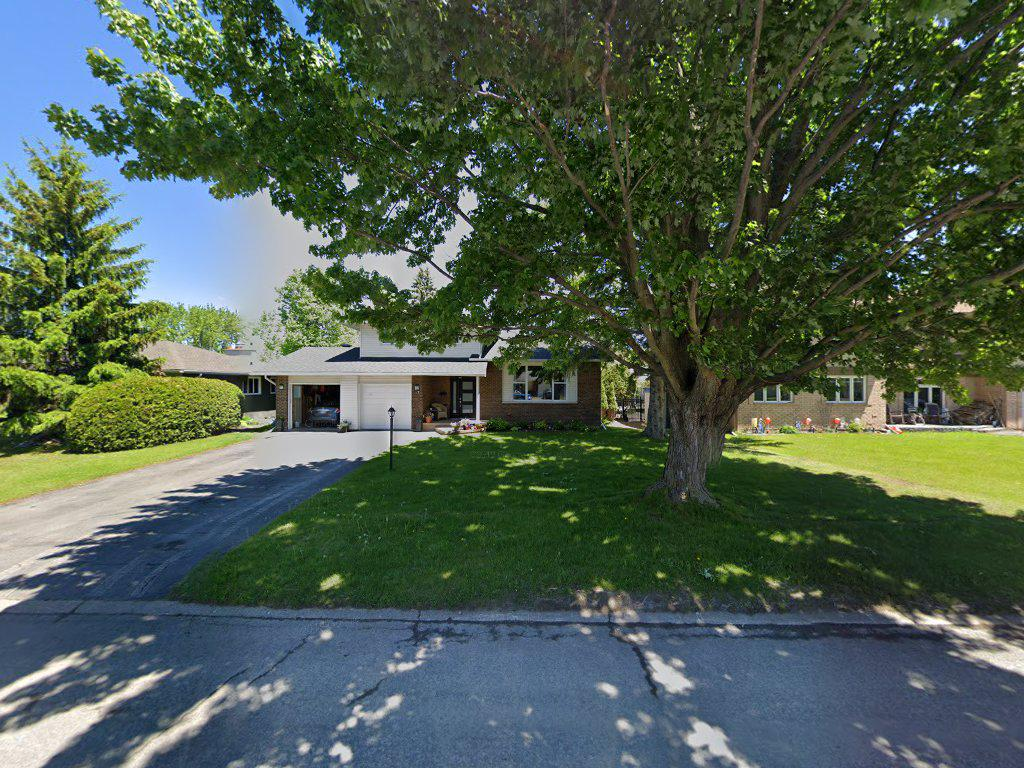trunk: (657, 345, 736, 521)
